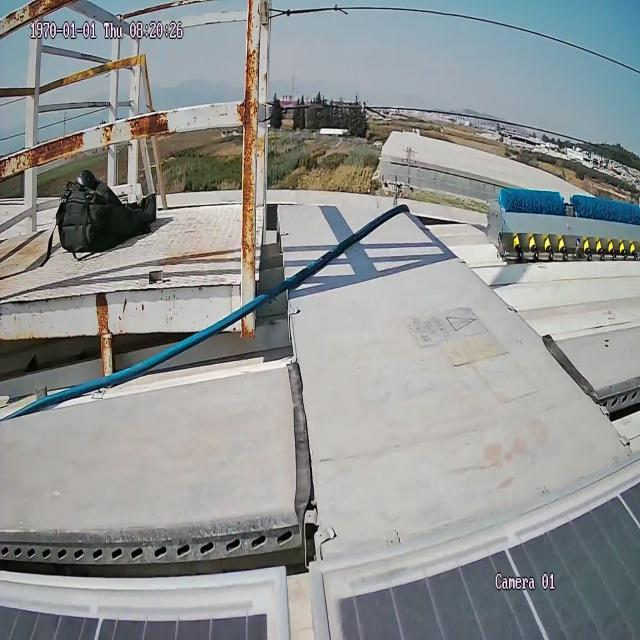outher panel: (0, 289, 640, 588)
